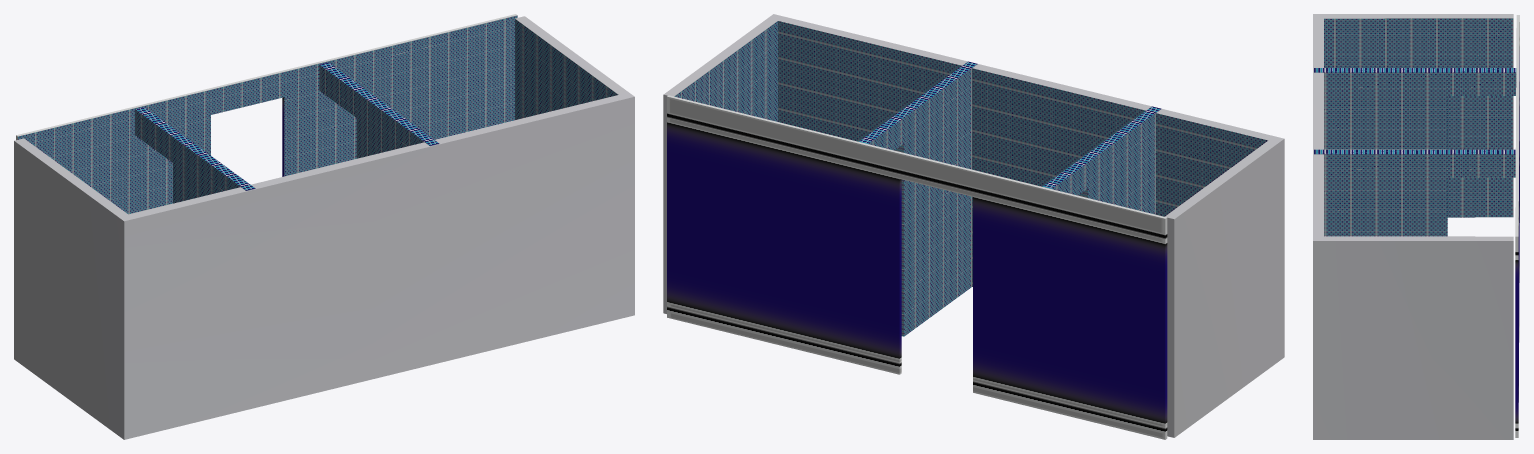
File: banio.obj
The picture shows the model from 3 angles, left to right: view 1: azimuth 30°, elevation 25°; view 2: azimuth 150°, elevation 25°; view 3: azimuth 270°, elevation 25°; orthographic projection. The views are drawn at different scales.
Parts seen in each view (by area): view 1: Plane.006_Plane.020, Plane.008_Plane.033, Plane.007_Plane.022, Plane.010_Plane.036; view 2: Plane.008_Plane.033, Plane.006_Plane.020, Plane.007_Plane.022, Plane.010_Plane.036; view 3: Plane.006_Plane.020, Plane.007_Plane.022, Plane.010_Plane.036, Plane.008_Plane.033.
Boxes of the visible parts, x1=… form: Plane.006_Plane.020: x1=14, y1=16, x2=634, y2=439; Plane.008_Plane.033: x1=16, y1=14, x2=517, y2=214; Plane.007_Plane.022: x1=319, y1=62, x2=439, y2=158; Plane.010_Plane.036: x1=135, y1=107, x2=255, y2=203; Plane.008_Plane.033: x1=667, y1=95, x2=1167, y2=439; Plane.006_Plane.020: x1=663, y1=14, x2=1284, y2=437; Plane.007_Plane.022: x1=859, y1=61, x2=977, y2=336; Plane.010_Plane.036: x1=1042, y1=106, x2=1161, y2=214; Plane.006_Plane.020: x1=1313, y1=14, x2=1513, y2=439; Plane.007_Plane.022: x1=1314, y1=149, x2=1515, y2=236; Plane.010_Plane.036: x1=1314, y1=68, x2=1516, y2=149; Plane.008_Plane.033: x1=1515, y1=15, x2=1519, y2=437.
Size of the model in its own units: 15.16 by 6.27 by 5.84.
